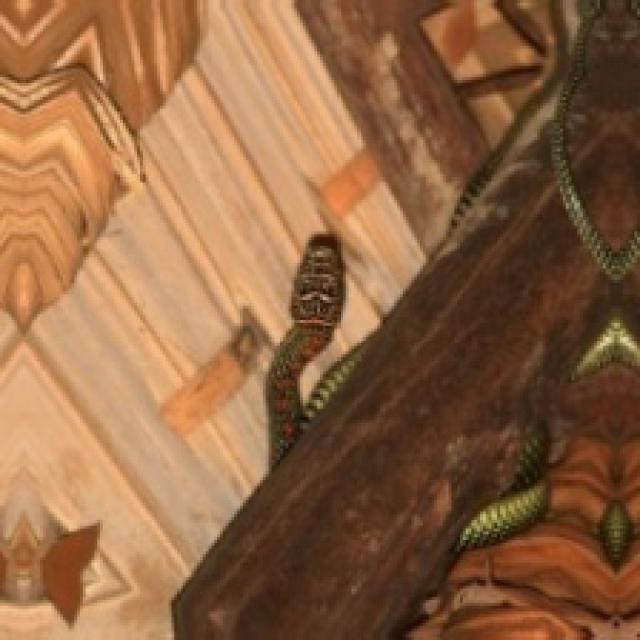paradise tree snake: (444, 0, 560, 244), (549, 0, 640, 282), (266, 234, 360, 469), (266, 234, 343, 466), (460, 426, 545, 552), (575, 319, 640, 379), (599, 500, 632, 566)
